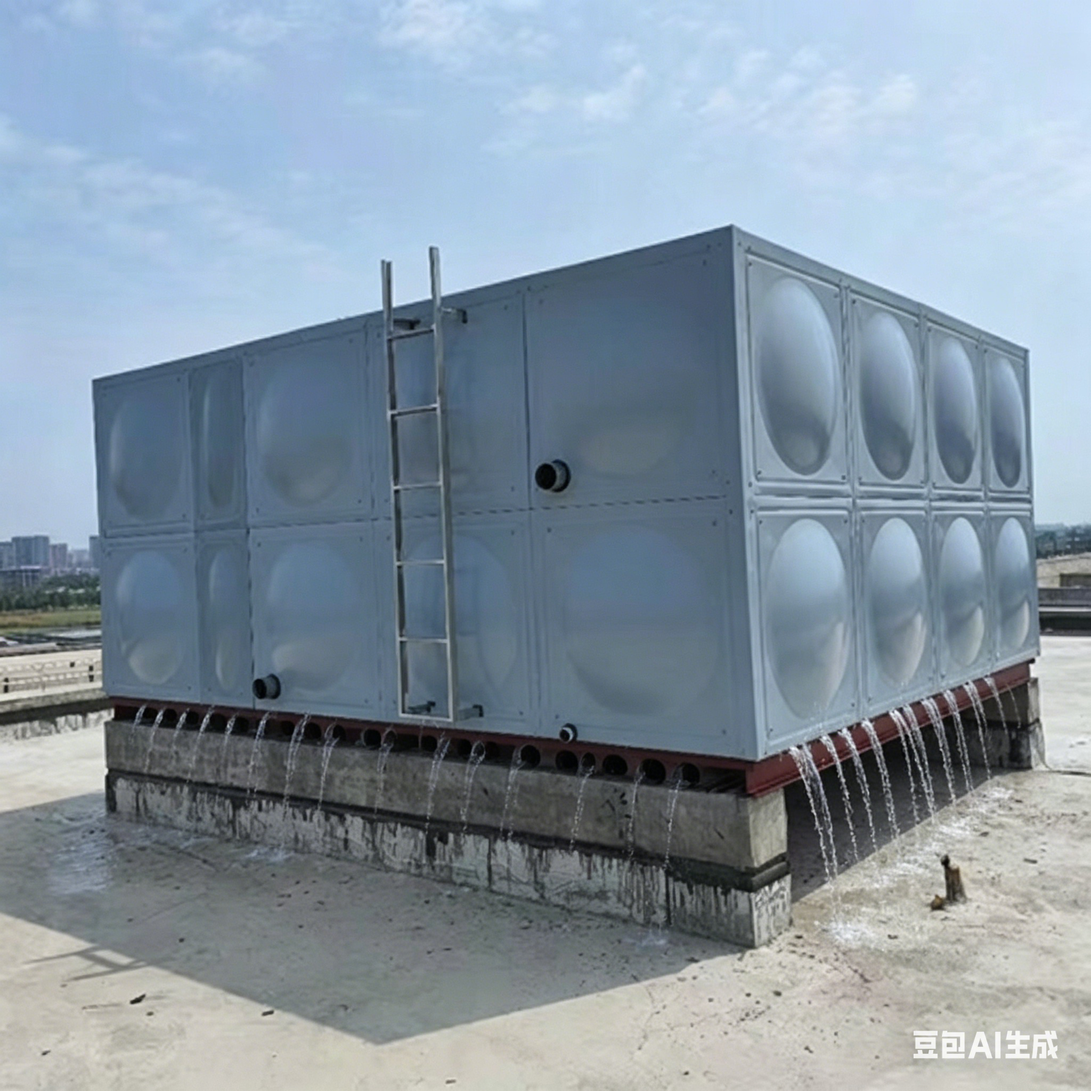Leakage: (104, 698, 788, 892), (804, 730, 941, 896), (943, 682, 1061, 846), (842, 688, 937, 724)
